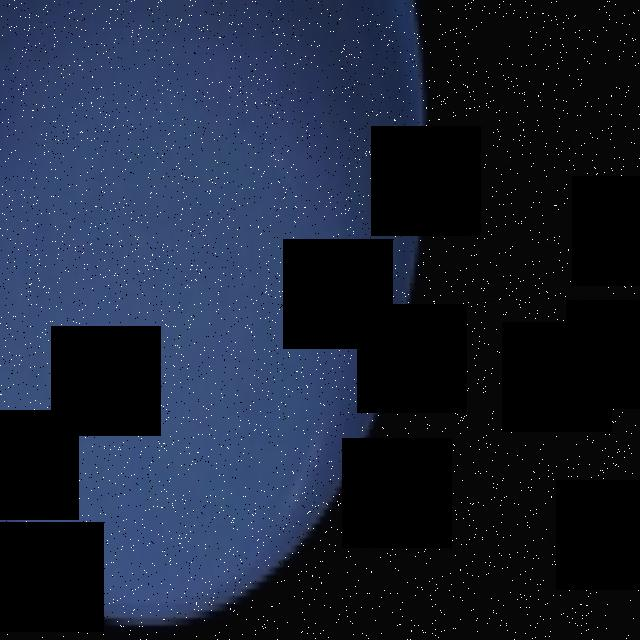Neptune: (0, 0, 426, 626)
